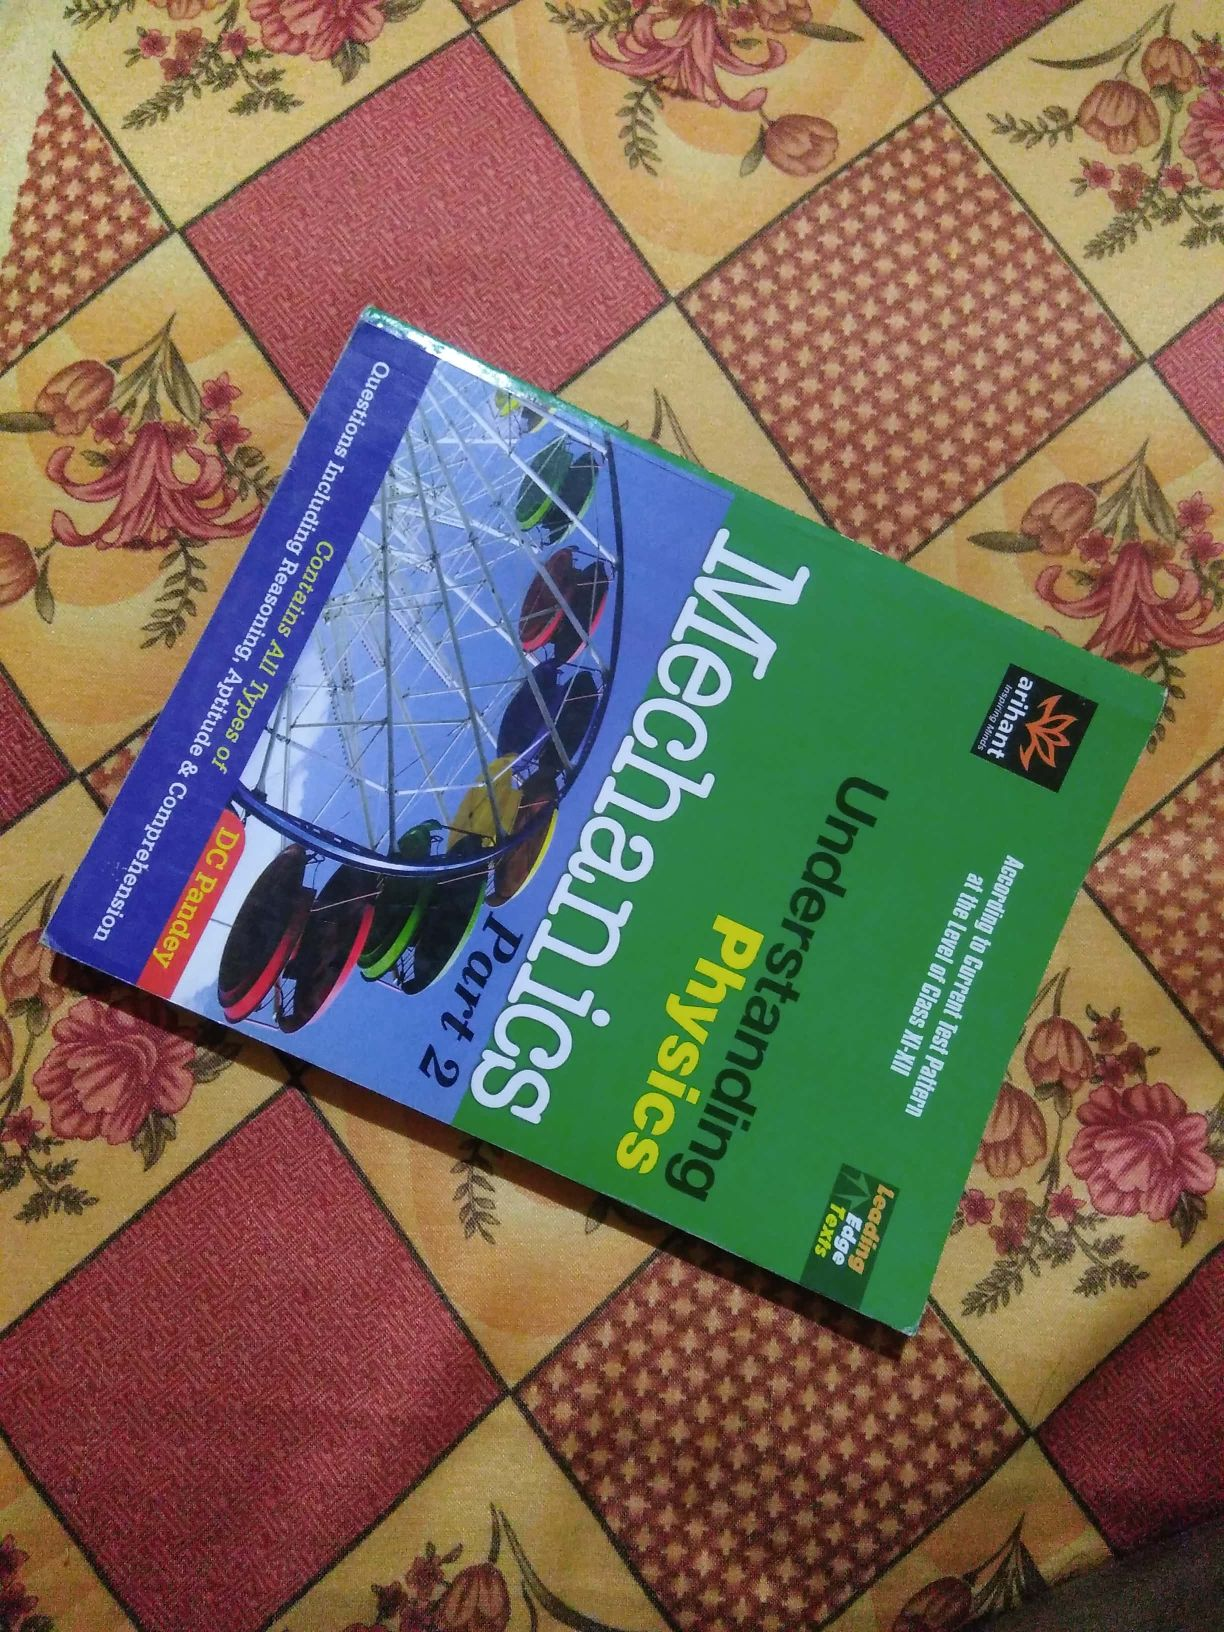mechanics: (103, 242, 1175, 1372)
